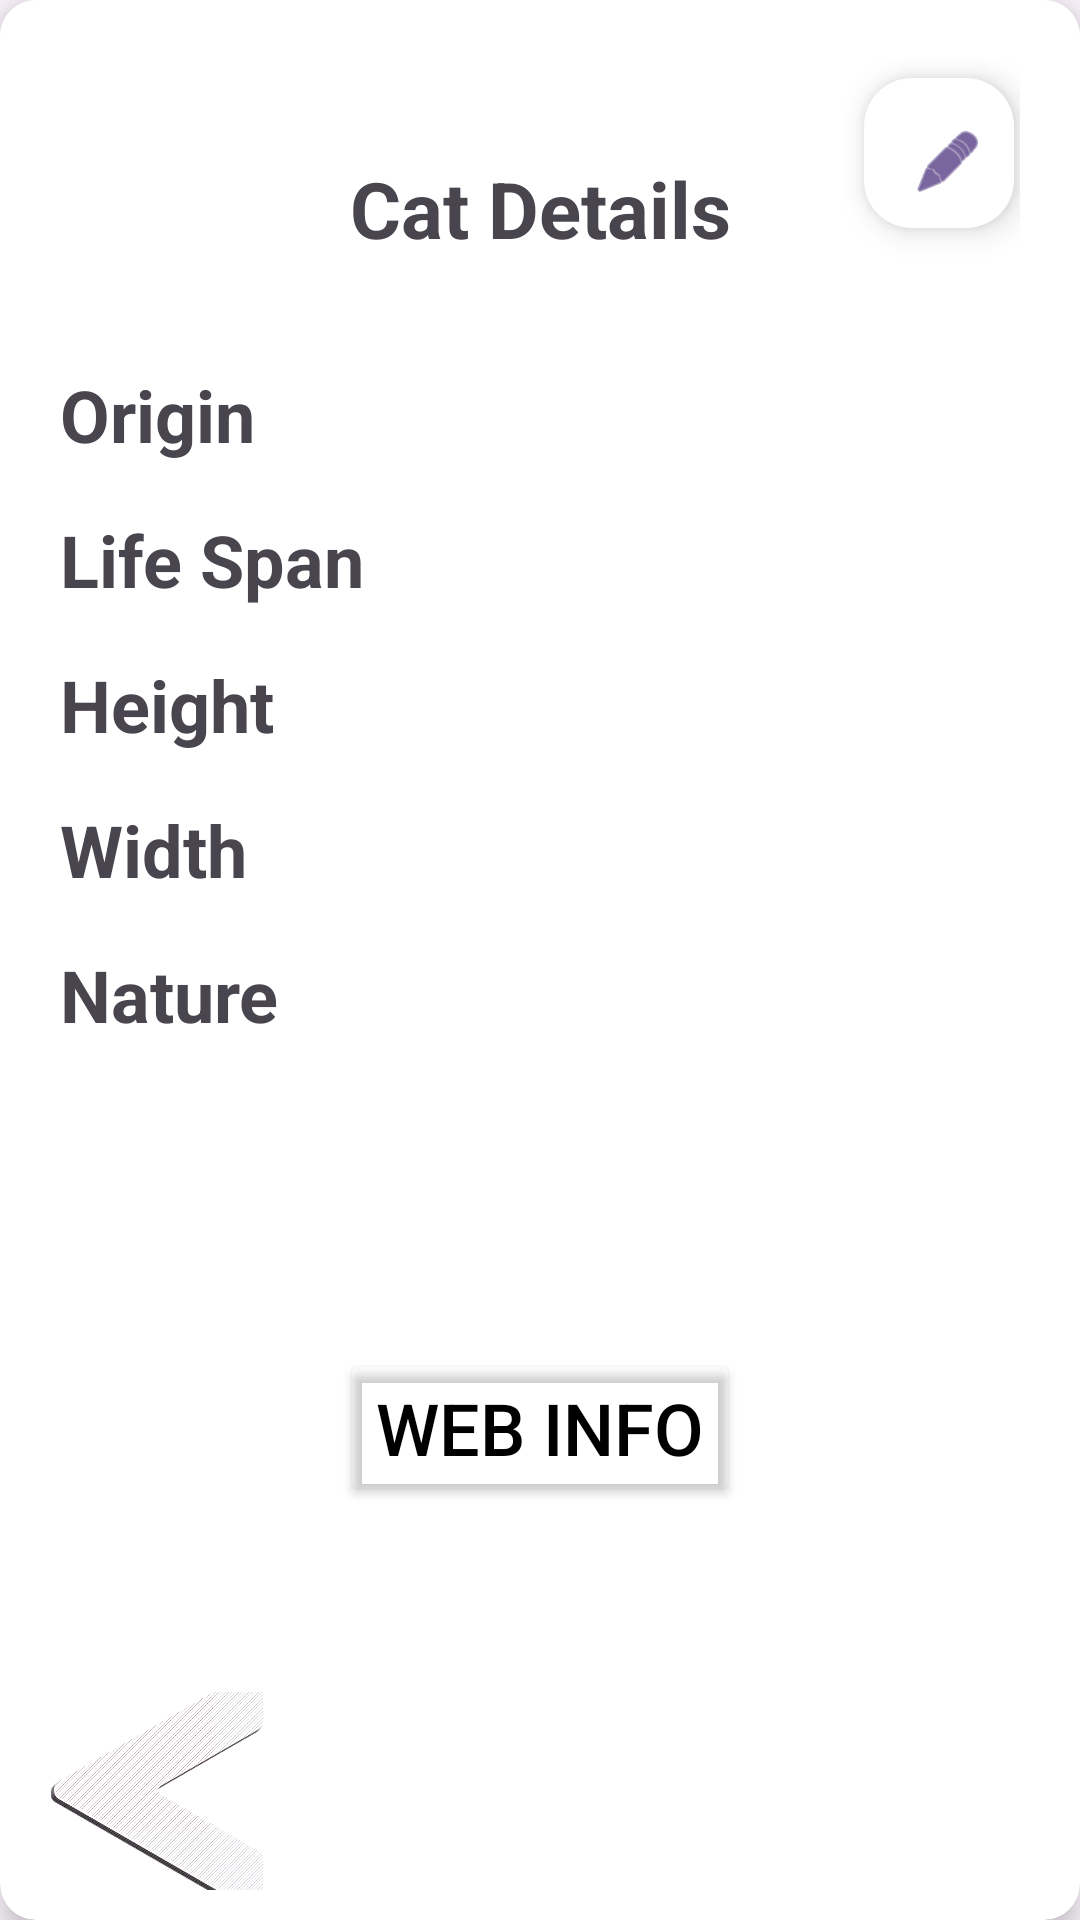

Icons on this 1080*1920 Android screen, each with the point to tap as (x=x, y=y):
add more information for cat: (x=958, y=156)
back to last page: (x=157, y=1791)
